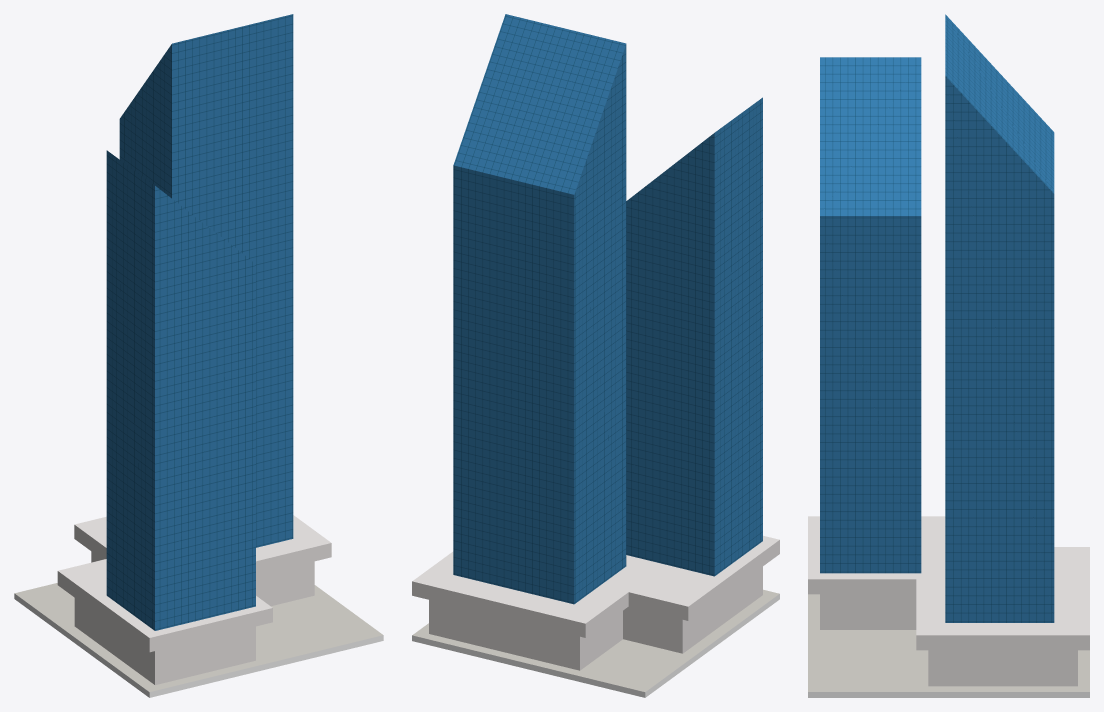
File: buildings_5.dae
3 views of the same model, side by side, from view 1: azimuth 30°, elevation 25°; view 2: azimuth 150°, elevation 25°; view 3: azimuth 270°, elevation 25° (orthographic). The views are drawn at different scales.
Parts seen in each view (by area): view 1: group_0 (×6); view 2: group_0 (×6); view 3: group_0 (×6).
Part boxes in pixels (x1,y1,x2,y2): group_0 (×6): [14, 14, 383, 697]; group_0 (×6): [412, 14, 779, 697]; group_0 (×6): [808, 14, 1089, 697].
Bounding box in the file's own units: 134 × 134 × 320.
Materials: 4 (3 with a texture image).
